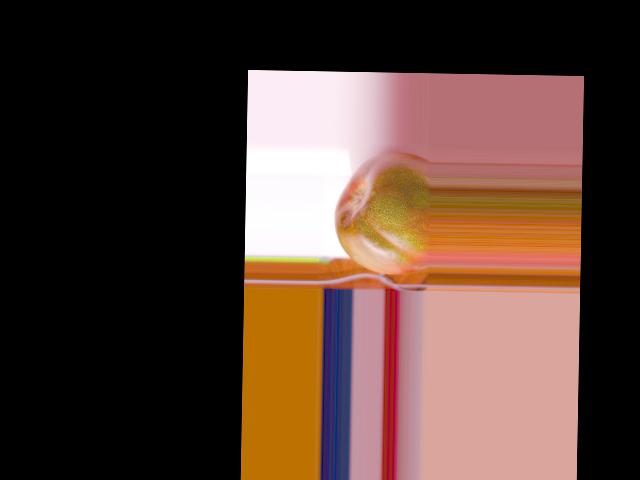tomato: (333, 152, 430, 275)
